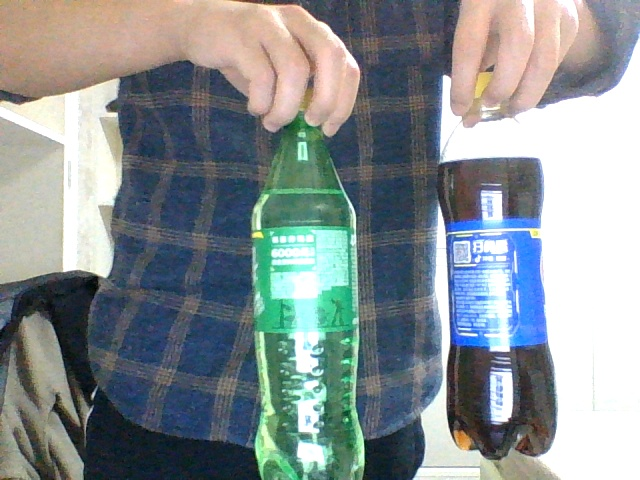Cola: (436, 71, 559, 461)
Sprite: (251, 89, 366, 479)
